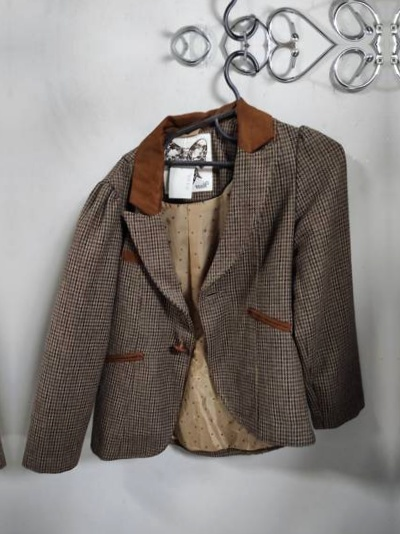Blazer: (20, 107, 375, 490), (0, 111, 4, 494)
